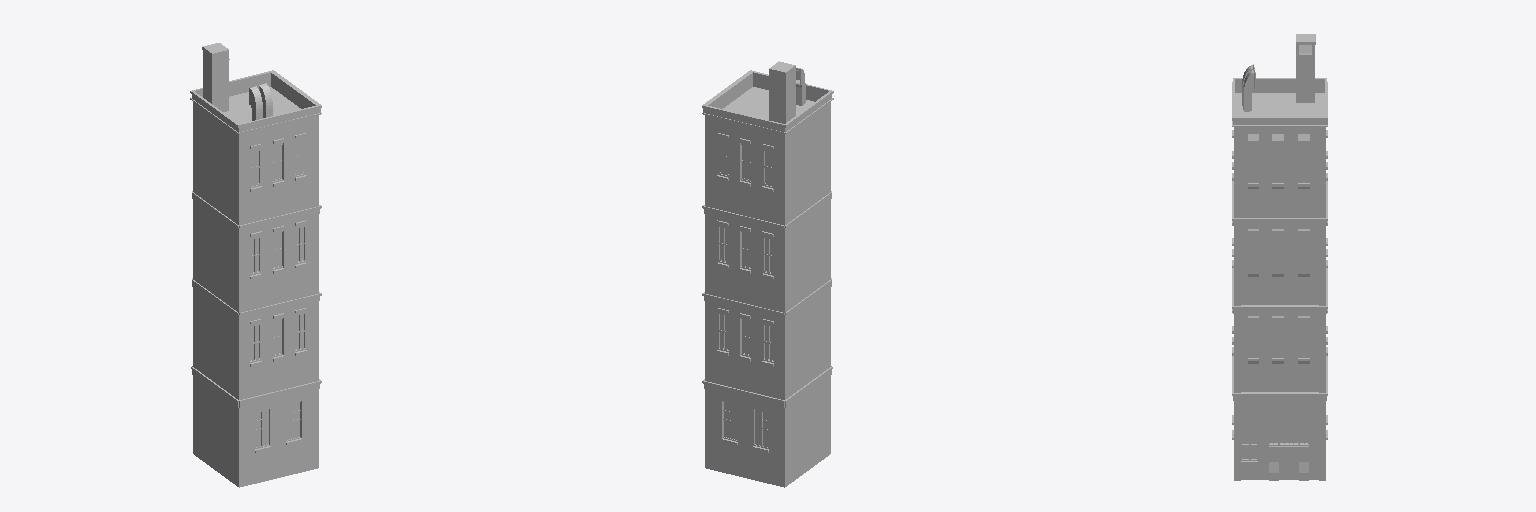
Rendered from Building1.obj.
3 views of the same model, side by side, from view 1: azimuth 30°, elevation 25°; view 2: azimuth 150°, elevation 25°; view 3: azimuth 270°, elevation 25° (orthographic).
Parts seen in each view (by area): view 1: Cube.001, Cube.004, Cube; view 2: Cube.001, Cube.004, Cube; view 3: Cube.001, Cube.004, Cube.
Boxes of the visible parts, <box> form: Cube.001: <box>192,191,321,399</box>; Cube.004: <box>190,43,321,225</box>; Cube: <box>191,366,321,487</box>; Cube.001: <box>702,191,831,399</box>; Cube.004: <box>702,61,833,225</box>; Cube: <box>702,366,832,487</box>; Cube.001: <box>1232,181,1327,392</box>; Cube.004: <box>1232,34,1327,217</box>; Cube: <box>1232,356,1327,480</box>.
Size of the model in its own units: 10.03 by 46.94 by 10.05.